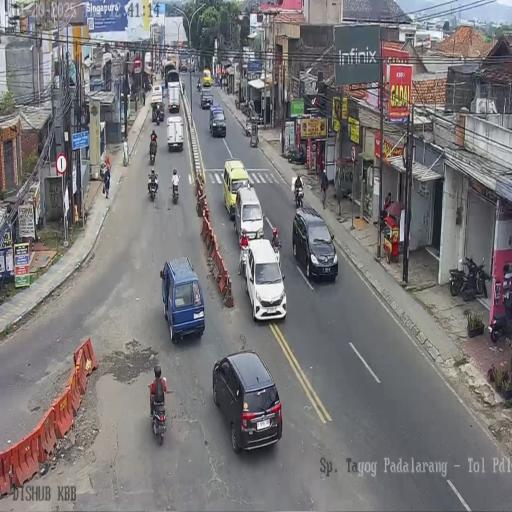3: (166, 67, 182, 112), (144, 51, 152, 77), (168, 53, 178, 71), (180, 58, 188, 72)
car: (212, 350, 284, 454), (160, 256, 206, 343), (241, 238, 287, 322), (294, 204, 339, 281), (222, 157, 250, 219), (167, 115, 184, 152), (209, 104, 226, 138), (200, 88, 214, 110), (150, 84, 162, 105), (203, 68, 211, 86)
truck: (149, 384, 168, 445), (488, 295, 512, 342), (449, 252, 474, 296), (470, 255, 491, 299), (285, 144, 305, 165), (148, 172, 158, 200), (294, 185, 304, 210), (240, 99, 252, 117), (171, 179, 179, 204), (149, 140, 157, 164), (197, 82, 201, 92), (235, 96, 238, 108), (187, 63, 190, 74)
